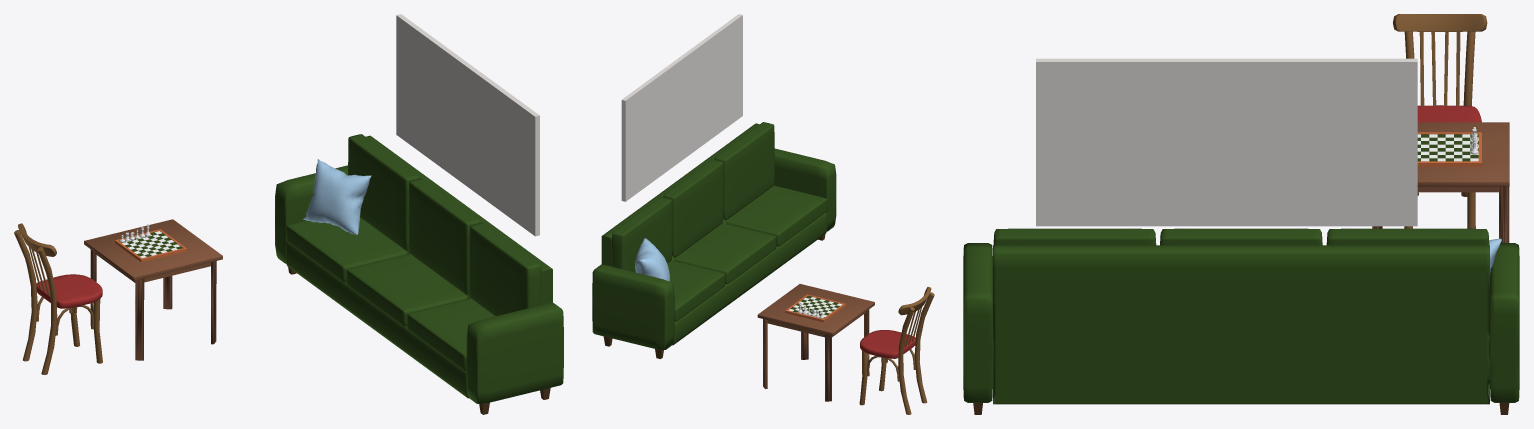
Rendered from Interior 1.fbx.
The picture shows the model from 3 angles, left to right: view 1: azimuth 30°, elevation 25°; view 2: azimuth 150°, elevation 25°; view 3: azimuth 270°, elevation 25°; orthographic projection. The views are drawn at different scales.
Visible parts, largest first — view 1: Sofa Big, Map, Chair, Table, Cushion.001, Table Legs, Chess Board; view 2: Sofa Big, Map, Chair, Table, Table Legs, Cushion.001, Chess Board; view 3: Sofa Big, Map, Chair, Table, Chess Board, Table Legs.
Boxes of the visible parts, bbox=[...] form: Sofa Big: bbox=[275, 134, 563, 414]; Map: bbox=[396, 14, 539, 236]; Chair: bbox=[14, 223, 102, 374]; Table: bbox=[84, 219, 222, 282]; Cushion.001: bbox=[303, 159, 371, 234]; Table Legs: bbox=[90, 249, 216, 360]; Chess Board: bbox=[115, 229, 186, 262]; Sofa Big: bbox=[592, 122, 836, 358]; Map: bbox=[621, 14, 742, 201]; Chair: bbox=[859, 287, 934, 414]; Table: bbox=[757, 284, 874, 337]; Table Legs: bbox=[763, 309, 869, 401]; Cushion.001: bbox=[635, 238, 669, 281]; Chess Board: bbox=[785, 294, 845, 322]; Sofa Big: bbox=[963, 228, 1519, 414]; Map: bbox=[1036, 58, 1417, 226]; Chair: bbox=[1393, 14, 1487, 228]; Table: bbox=[1417, 122, 1509, 192]; Chess Board: bbox=[1417, 132, 1481, 166]; Table Legs: bbox=[1372, 186, 1509, 242].
Size of the model in its own units: 471 by 333 by 450.
